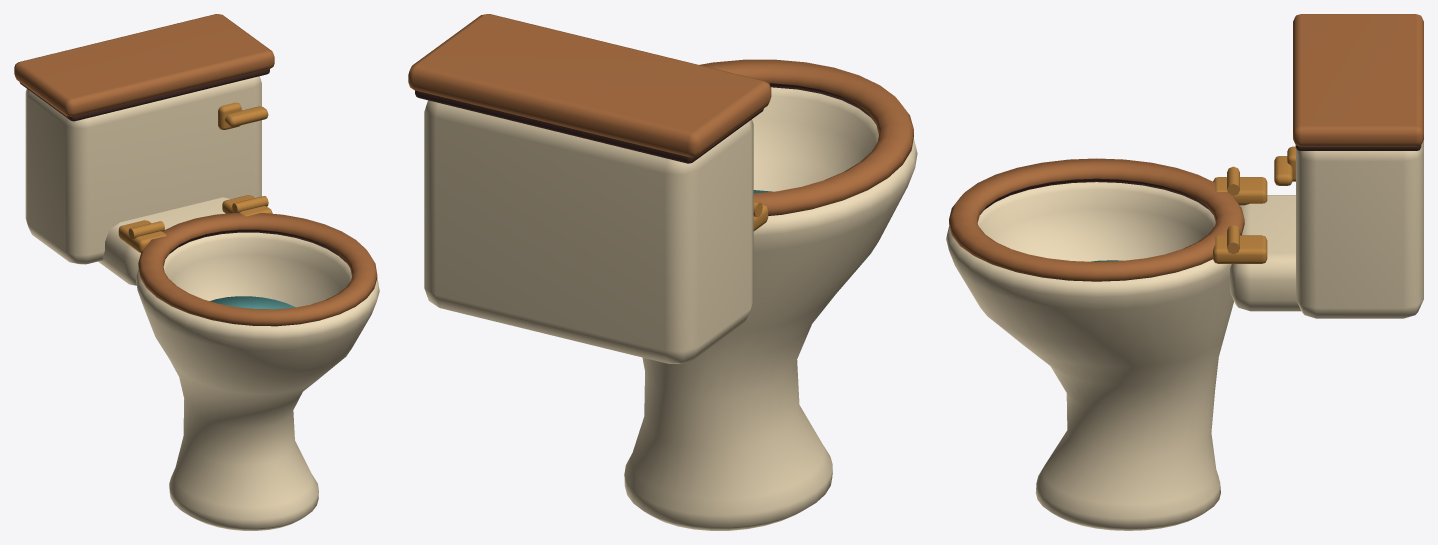
Rendered from bath-toilet.glb.
3 renders of one model, left to right at view 1: azimuth 30°, elevation 25°; view 2: azimuth 150°, elevation 25°; view 3: azimuth 270°, elevation 25°, orthographic. The views are drawn at different scales.
Visible parts, largest first — view 1: bath_toilet_placement_Mesh; view 2: bath_toilet_placement_Mesh; view 3: bath_toilet_placement_Mesh.
Boxes of the visible parts, x1,y1,x2,y2 form: bath_toilet_placement_Mesh: (14,14,379,530); bath_toilet_placement_Mesh: (408,14,917,530); bath_toilet_placement_Mesh: (946,14,1423,530).
Bounding box in the file's own units: 0.38 × 0.645 × 0.65.
